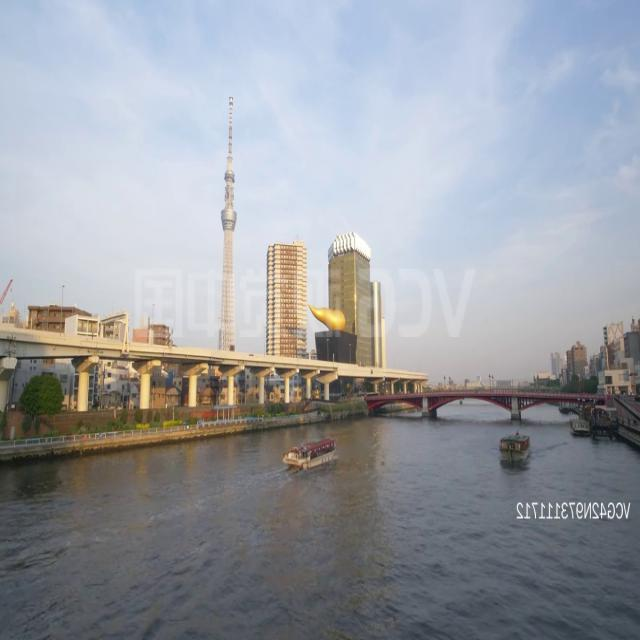passenger ship: (283, 436, 336, 476), (495, 428, 531, 472), (568, 414, 588, 434)
